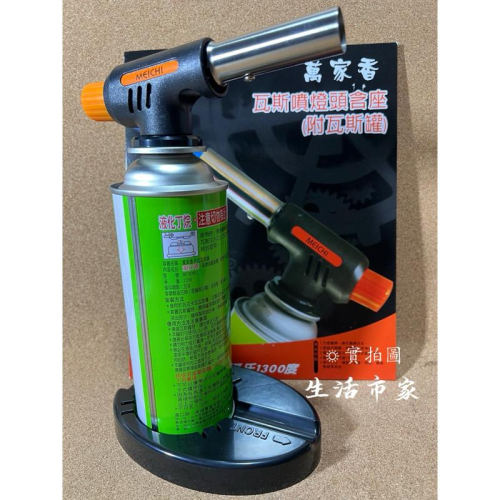gastorch: (82, 10, 349, 491), (191, 143, 395, 362)
